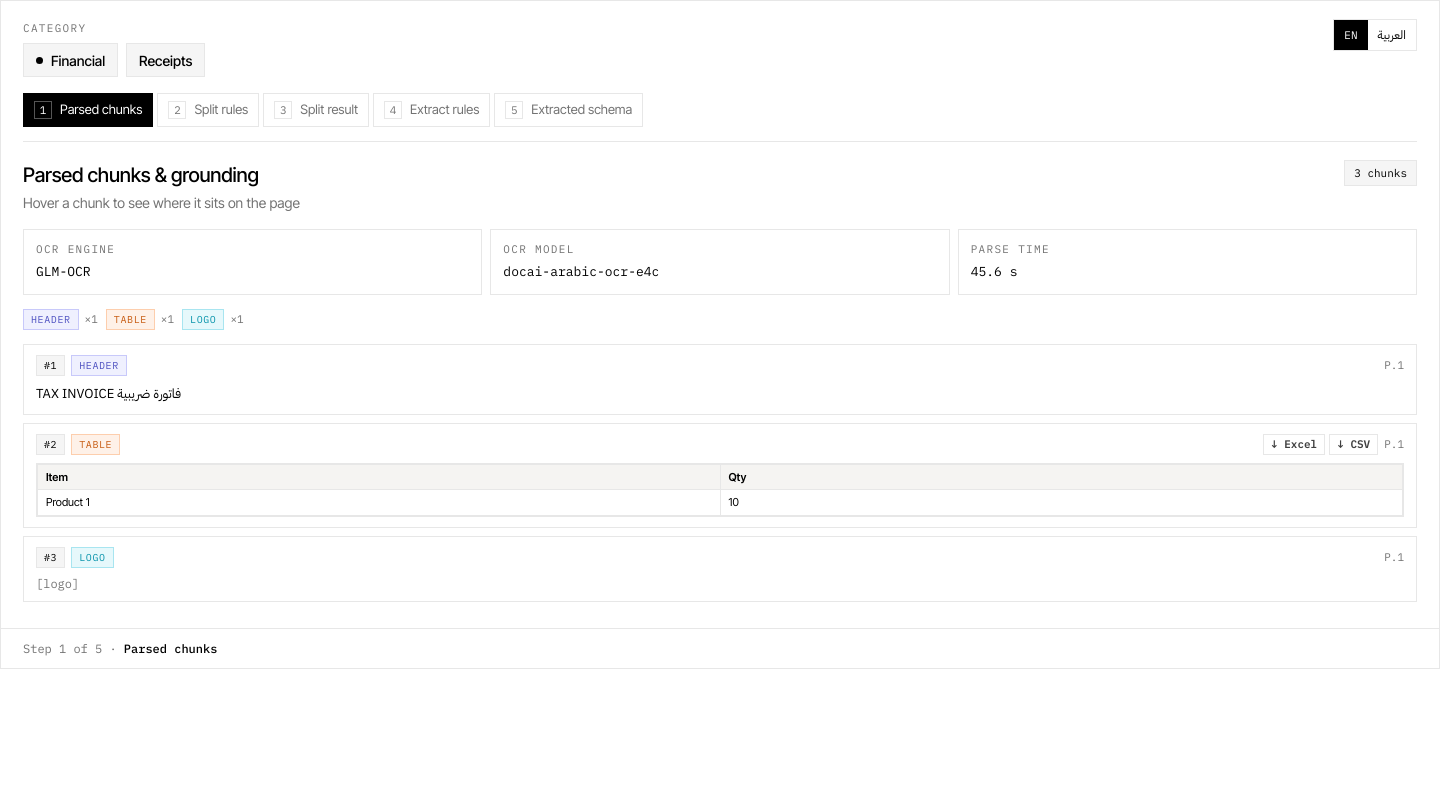
it: clicking a step switches body
This screenshot has width=1440, height=810.
Click the button "3 Split result" at x=316, y=110, box [263, 93, 369, 127]
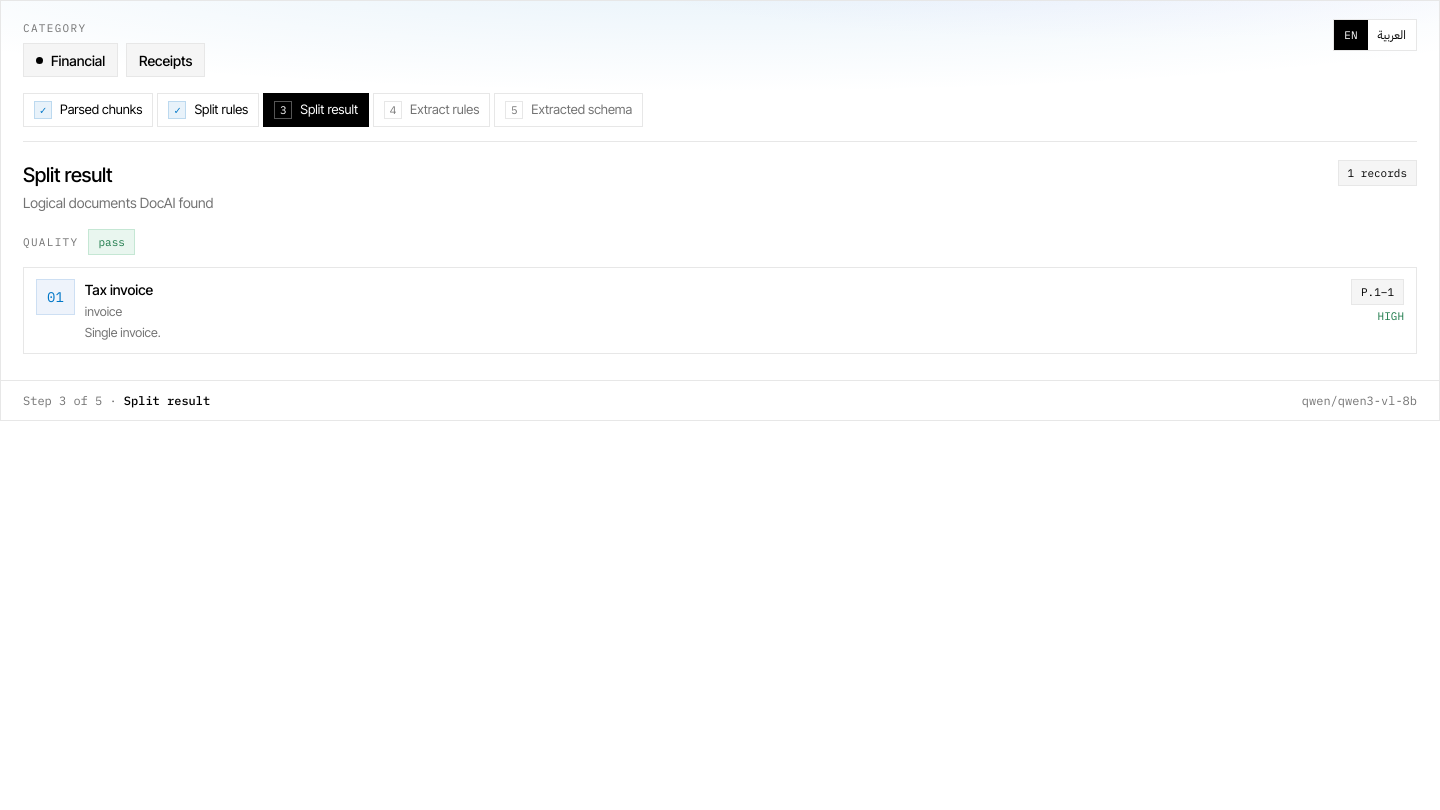
Expected: the text "Tax invoice" is shown, [85, 281, 153, 298]
Result: the heading reads "Split result" at [23, 163, 112, 187]
Result: the text "Step 3 of 5" is shown at [23, 393, 102, 408]
